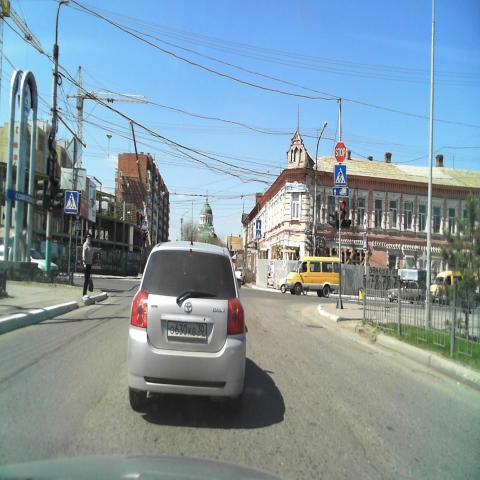2_5: (334, 141, 347, 163)
